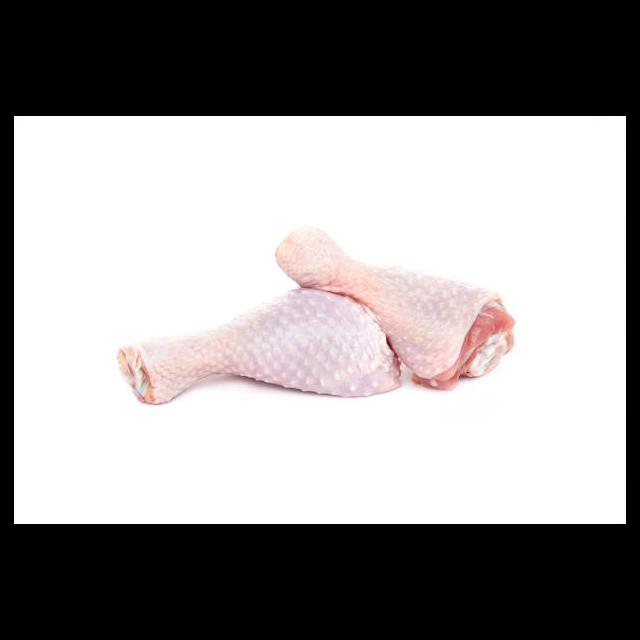chicken: (116, 224, 517, 408)
